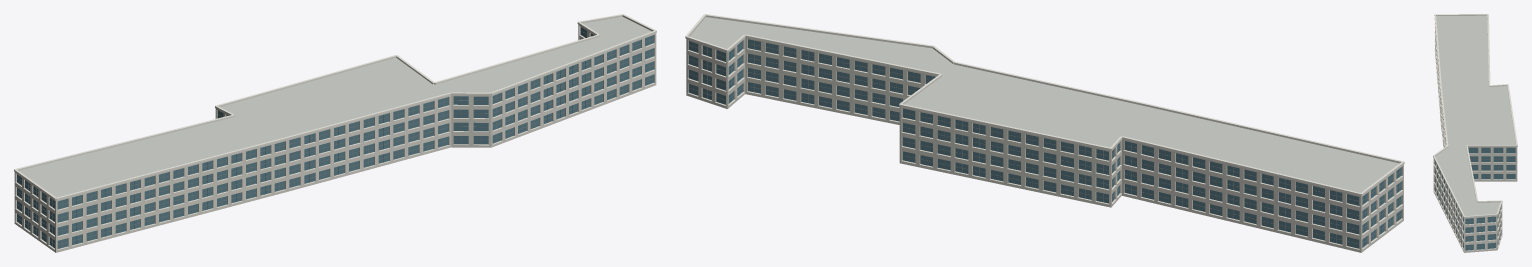
3 renders of one model, left to right at view 1: azimuth 30°, elevation 25°; view 2: azimuth 150°, elevation 25°; view 3: azimuth 270°, elevation 25°, orthographic. The views are drawn at different scales.
Parts seen in each view (by area): view 1: wall, roof, glass, trim, metal; view 2: wall, roof, glass, trim, metal; view 3: roof, wall, trim, glass, metal.
Boxes of the visible parts, left/top/right/bottom form: wall: left=14, top=24, right=656, bottom=252; roof: left=19, top=16, right=651, bottom=197; glass: left=17, top=27, right=653, bottom=248; trim: left=14, top=14, right=656, bottom=250; metal: left=17, top=29, right=653, bottom=247; wall: left=686, top=37, right=1403, bottom=252; roof: left=689, top=17, right=1399, bottom=192; glass: left=688, top=39, right=1401, bottom=248; trim: left=685, top=14, right=1404, bottom=249; metal: left=689, top=41, right=1401, bottom=247; roof: left=1435, top=15, right=1515, bottom=216; wall: left=1433, top=27, right=1517, bottom=252; trim: left=1433, top=14, right=1517, bottom=251; glass: left=1434, top=147, right=1515, bottom=250; metal: left=1434, top=148, right=1515, bottom=249.
Bounding box in the file's own units: 157 × 13.04 × 27.62.
